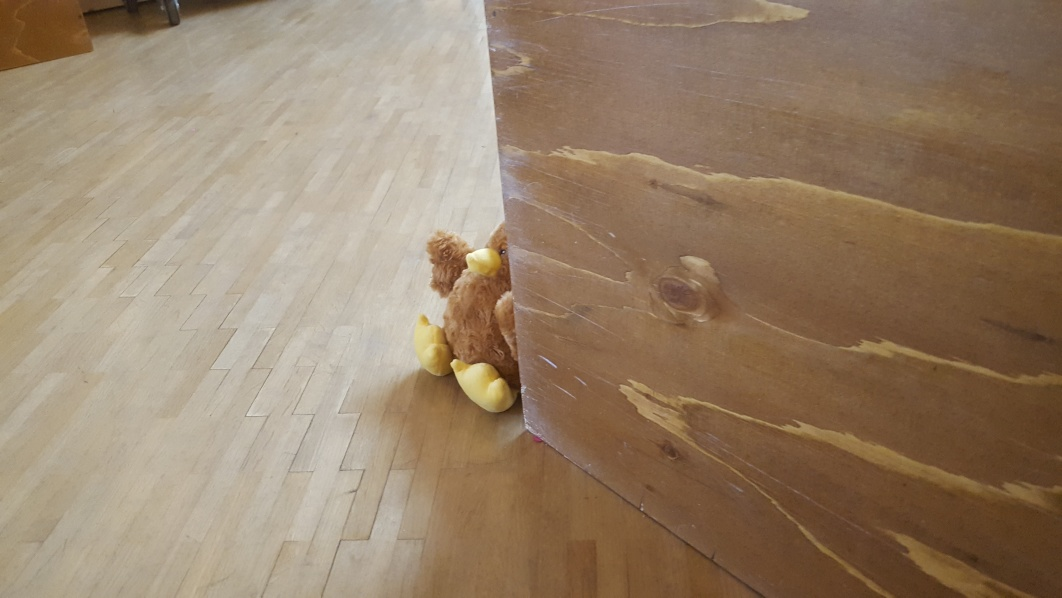chicken: (417, 218, 521, 418)
